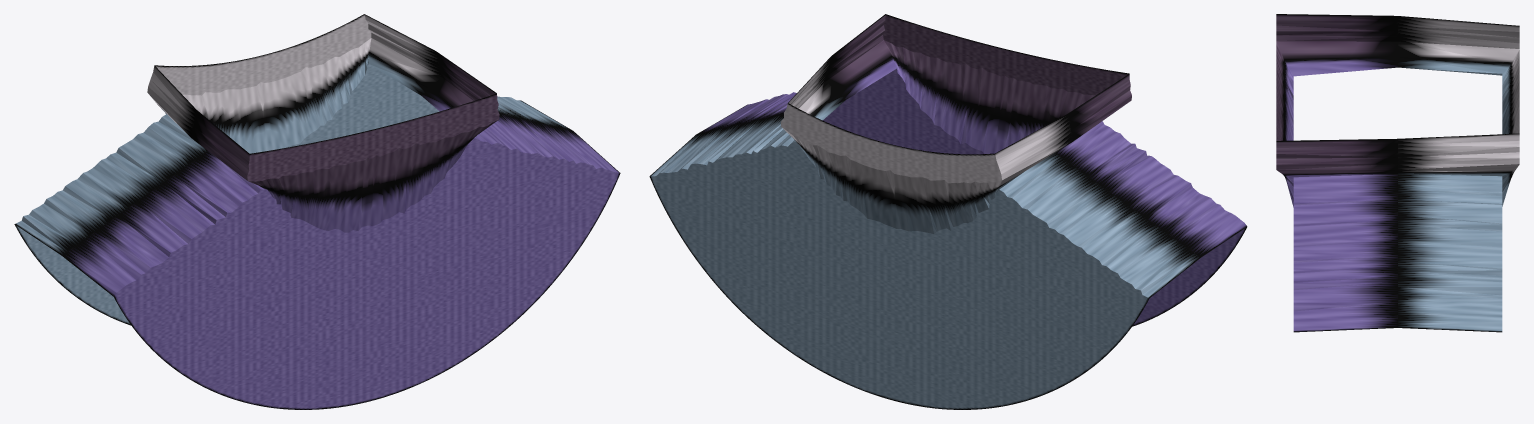
Rendered from valid_garment_lower_boxmesh.obj.
3 renders of one model, left to right at view 1: azimuth 30°, elevation 25°; view 2: azimuth 150°, elevation 25°; view 3: azimuth 270°, elevation 25°, orthographic. The views are drawn at different scales.
Size of the model in its own units: 89.27 by 47.61 by 35.
1 material, 1 textured.
